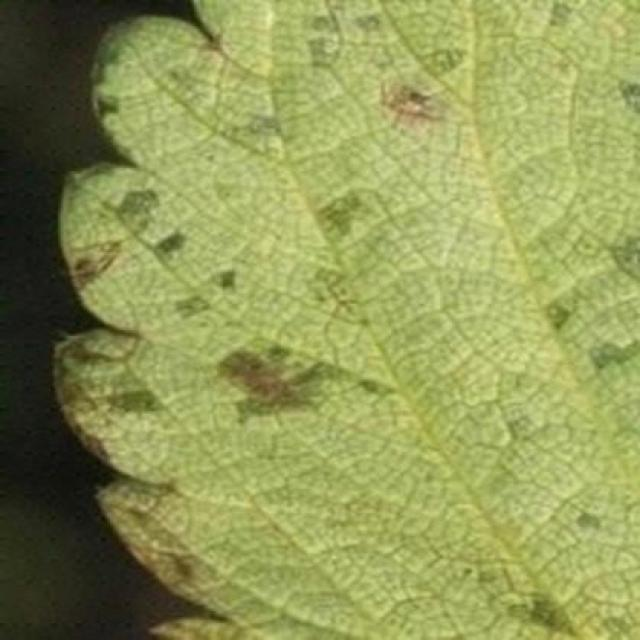Angular Leafspot: (49, 0, 638, 638)
